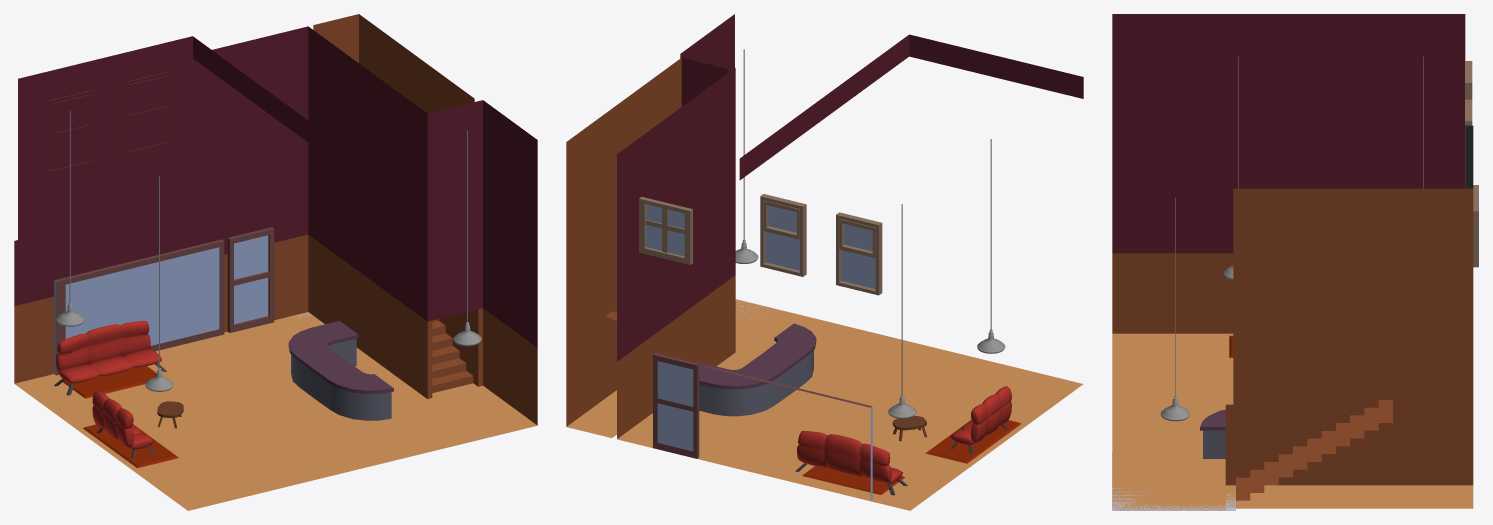
The model's file is coffee-shop.gltf.
The picture shows the model from 3 angles, left to right: view 1: azimuth 30°, elevation 25°; view 2: azimuth 150°, elevation 25°; view 3: azimuth 270°, elevation 25°; orthographic projection. The views are drawn at different scales.
Visible parts, largest first — view 1: coffee-shop, coffee-shop-windows, bar, sofa2, coffee-shop-door, stairs, sofa, rug2, rug, hang-light.001, hang-light, hang-light.002; view 2: coffee-shop, bar, coffee-shop-door, sofa2, coffee-shop-window-1, coffee-shop-window-2, coffee-shop-window-3, sofa, rug, rug2, hang-light, hang-light.001 (+2 smaller); view 3: coffee-shop, stairs, bar, ground-clickable, hang-light.002, coffee-shop-window-3.
Boxes of the visible parts, left/top/right/bottom form: coffee-shop: left=14, top=14, right=537, bottom=510; coffee-shop-windows: left=54, top=239, right=224, bottom=375; bar: left=288, top=321, right=393, bottom=420; sofa2: left=54, top=321, right=166, bottom=395; coffee-shop-door: left=227, top=227, right=274, bottom=332; stairs: left=432, top=319, right=473, bottom=393; sofa: left=92, top=390, right=154, bottom=458; rug2: left=63, top=366, right=156, bottom=398; rug: left=83, top=424, right=178, bottom=467; hang-light.001: left=56, top=111, right=84, bottom=326; hang-light: left=145, top=176, right=173, bottom=391; hang-light.002: left=453, top=130, right=481, bottom=346; coffee-shop: left=566, top=14, right=1083, bottom=510; bar: left=699, top=323, right=816, bottom=416; coffee-shop-door: left=653, top=353, right=699, bottom=458; sofa2: left=795, top=431, right=907, bottom=495; coffee-shop-window-1: left=760, top=194, right=806, bottom=276; coffee-shop-window-2: left=836, top=212, right=882, bottom=295; coffee-shop-window-3: left=639, top=196, right=692, bottom=264; sofa: left=950, top=386, right=1011, bottom=454; rug: left=925, top=420, right=1021, bottom=463; rug2: left=802, top=466, right=904, bottom=494; hang-light: left=977, top=139, right=1005, bottom=353; hang-light.001: left=888, top=204, right=916, bottom=418; coffee-shop: left=1112, top=14, right=1473, bottom=510; stairs: left=1236, top=400, right=1392, bottom=500; bar: left=1200, top=409, right=1225, bottom=458; ground-clickable: left=1112, top=452, right=1235, bottom=510; hang-light.002: left=1160, top=197, right=1189, bottom=421; coffee-shop-window-3: left=1473, top=185, right=1478, bottom=267.
Size of the model in its own units: 23.44 by 19.8 by 20.5.
